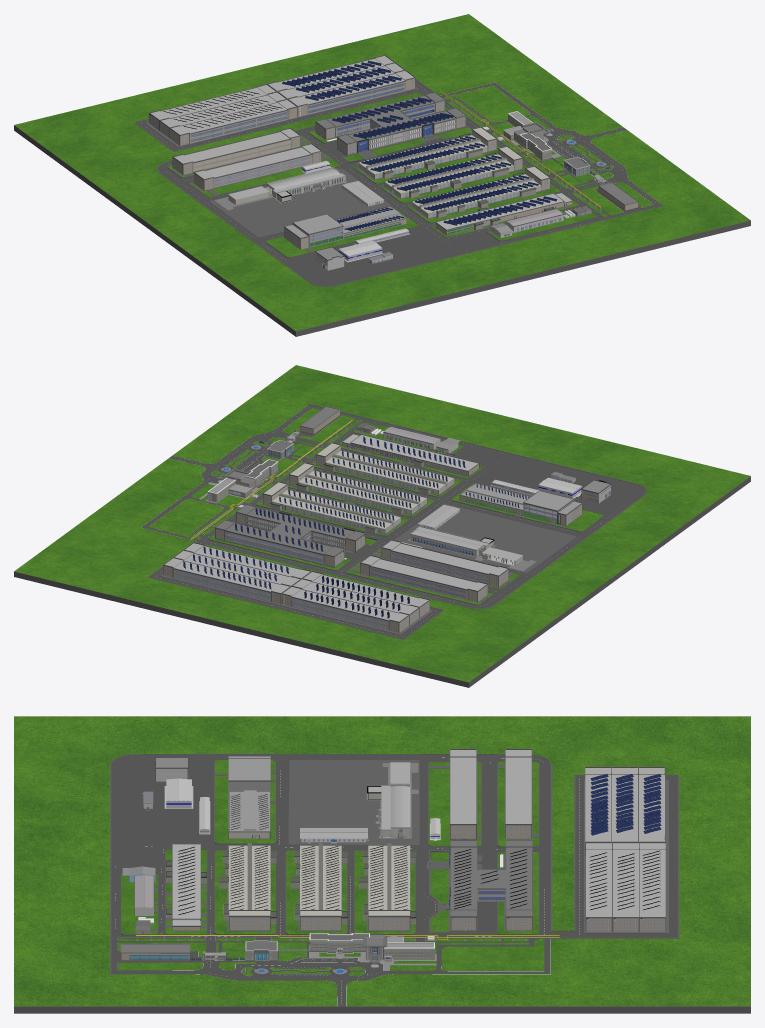
Rendered from factory_model.glb.
3 views of the same model, one above another, from view 1: azimuth 30°, elevation 25°; view 2: azimuth 150°, elevation 25°; view 3: azimuth 270°, elevation 25° (orthographic). The views are drawn at different scales.
Parts seen in each view (by area): view 1: Merged_Vertex - Map Grass 01, Merged_fallback Material.904, Plane.1460, Merged_fallback Material.892, Object1746171052, Merged_Deraza Oyna, Merged_solarkr.007, Merged_fallback Material.003, Merged_solarkr.148, Merged_Material.017, Merged_fasad_bino.005, Merged_Material.036 (+23 smaller); view 2: Merged_Vertex - Map Grass 01, Merged_fallback Material.904, Plane.1460, Merged_fallback Material.892, Object1746171052, Merged_fallback Material.168, Merged_Deraza Oyna, Merged_fallback Material.003, Merged_fasad_bino.005, Merged_Material.017, Merged_fallback Material.055, Merged_fallback Material.036 (+23 smaller); view 3: Merged_Vertex - Map Grass 01, Merged_fallback Material.904, Plane.1460, Merged_fallback Material.892, Merged_fallback Material.168, Object1746171052, Merged_Material.017, Merged_Material.036, Merged_fallback Material.055, Merged_solarkr.148, Merged_fallback Material.036, Merged_solarkr.007 (+32 smaller).
Part boxes in pixels (box(x1,y1,x2,y2)): Merged_Vertex - Map Grass 01: box(14, 14, 750, 331); Merged_fallback Material.904: box(136, 79, 662, 286); Plane.1460: box(14, 85, 750, 336); Merged_fallback Material.892: box(151, 56, 413, 134); Object1746171052: box(443, 85, 653, 216); Merged_Deraza Oyna: box(191, 83, 585, 268); Merged_solarkr.007: box(361, 136, 538, 210); Merged_fallback Material.003: box(145, 83, 466, 158); Merged_solarkr.148: box(163, 60, 401, 129); Merged_Material.017: box(134, 78, 663, 286); Merged_fasad_bino.005: box(173, 136, 321, 190); Merged_Material.036: box(171, 126, 569, 252); Merged_Vertex - Map Grass 01: box(14, 365, 750, 682); Merged_fallback Material.904: box(141, 404, 646, 638); Plane.1460: box(14, 458, 750, 687); Merged_fallback Material.892: box(164, 543, 428, 621); Object1746171052: box(149, 408, 362, 539); Merged_fallback Material.168: box(272, 451, 453, 528); Merged_Deraza Oyna: box(174, 444, 610, 629); Merged_fallback Material.003: box(160, 507, 432, 634); Merged_fasad_bino.005: box(360, 548, 508, 601); Merged_Material.017: box(148, 404, 647, 639); Merged_fallback Material.055: box(216, 505, 364, 555); Merged_fallback Material.036: box(362, 540, 507, 590); Merged_Vertex - Map Grass 01: box(14, 716, 750, 1006); Merged_fallback Material.904: box(111, 754, 677, 1006); Plane.1460: box(14, 760, 750, 1013); Merged_fallback Material.892: box(585, 768, 665, 916); Merged_fallback Material.168: box(228, 845, 410, 917); Object1746171052: box(118, 938, 544, 975); Merged_Material.017: box(110, 753, 679, 974); Merged_Material.036: box(150, 765, 538, 934); Merged_fallback Material.055: box(450, 840, 532, 916); Merged_solarkr.148: box(589, 774, 661, 910); Merged_fallback Material.036: box(450, 750, 531, 823); Merged_solarkr.007: box(230, 845, 407, 909).
Bounding box in the file's own units: 668 × 27.52 × 717.
Materials: 623 (55 with a texture image).
